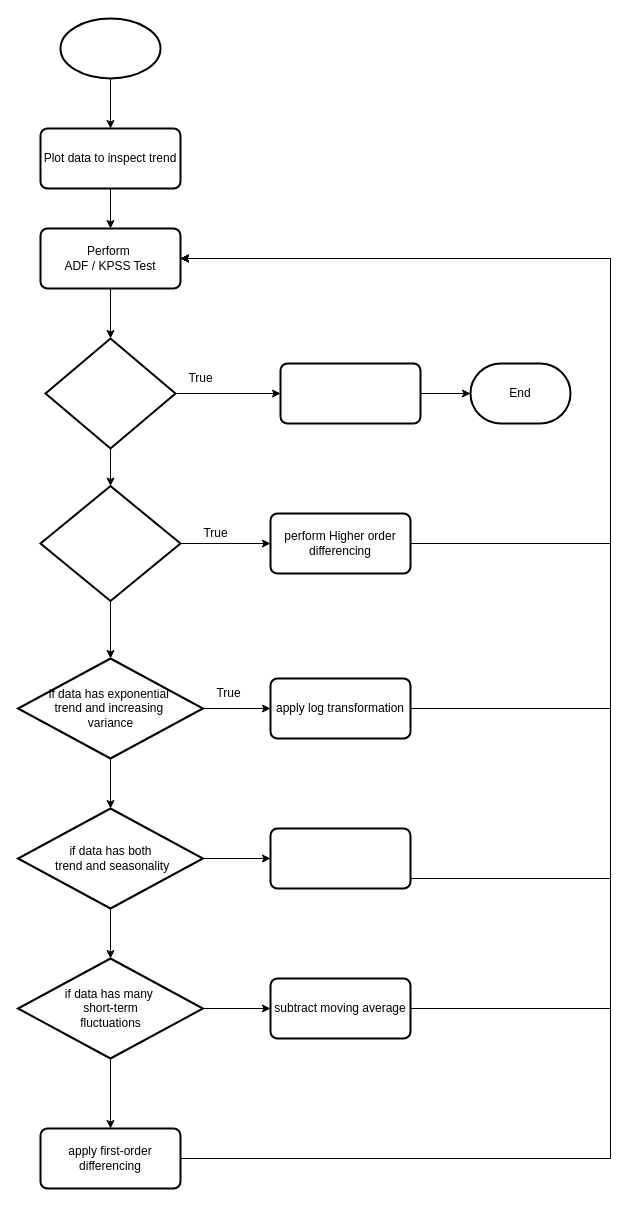
The diagram is 636 pixels wide and 1206 high, and some of its shapes have lost their labels. The shapes that lost their labels are listed below. From the top down, each one's centre as x and y in pixels, then its label:
At point 110,48: "Start".
At point 110,393: "is p-value < 0.05?".
At point 350,393: "return Stationary series".
At point 110,543: "have you already differenced?".
At point 340,858: "apply time series decomposition".
